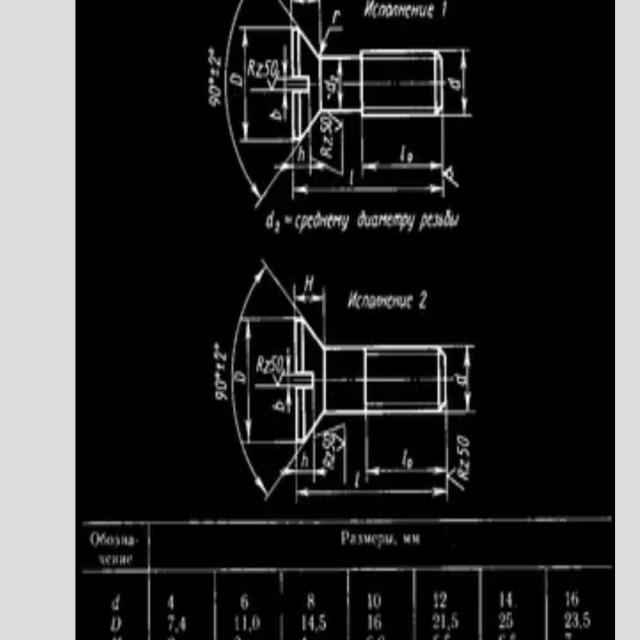marking_line: (359, 119, 447, 173)
